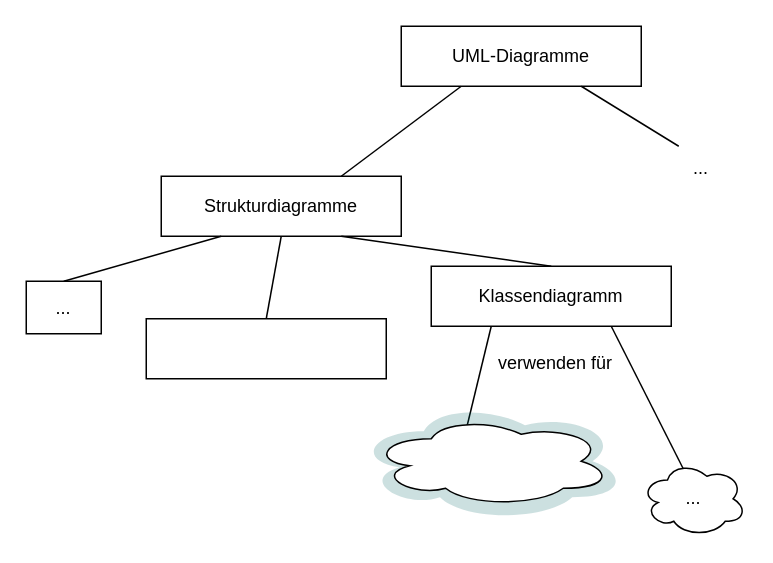
Image size: 773x563. Some labels were removed from this diagram. The centre of each missing label's shape, as x and y in pixels:
"Domänenklassen- diagramm" goes at point (490, 460).
"Objektdiagramm" goes at point (265, 348).
